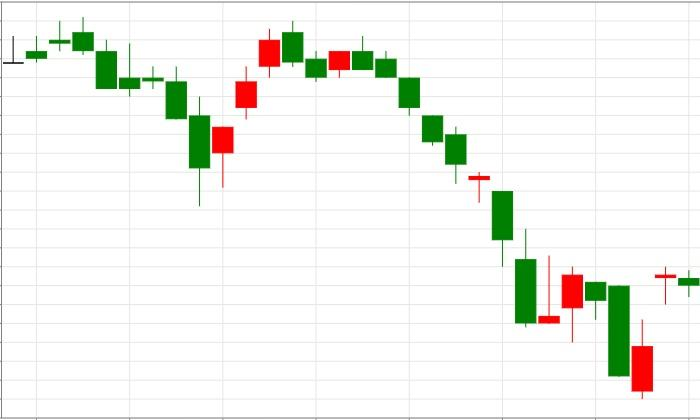hammer_rise: (49, 17, 234, 208)
morning_star_rise: (352, 36, 584, 343)
